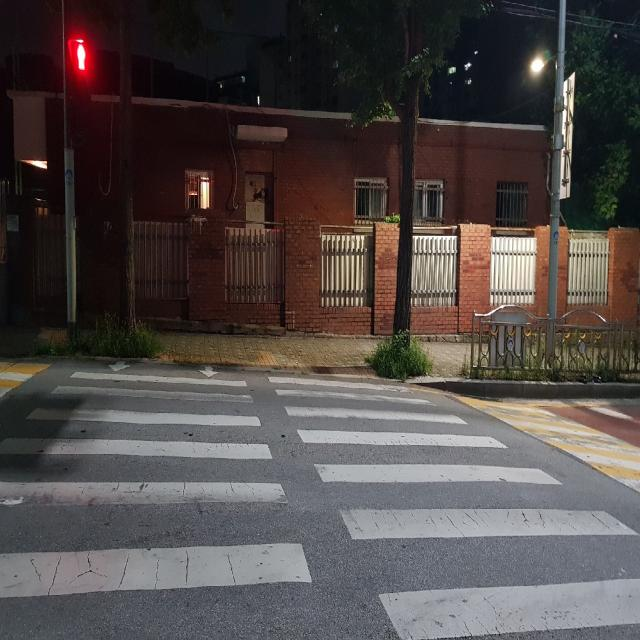빨간불: (65, 40, 96, 143)
횡단보도: (0, 360, 640, 639)
